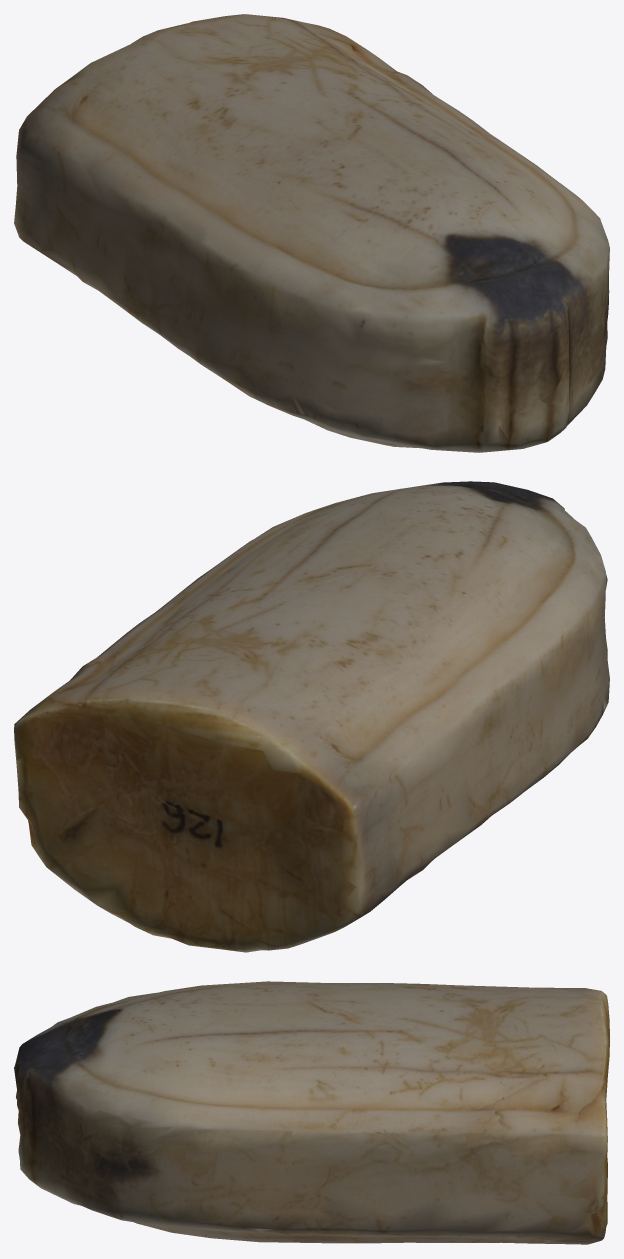
The model's file is marker3.glb.
3 renders of one model, top to bottom at view 1: azimuth 30°, elevation 25°; view 2: azimuth 150°, elevation 25°; view 3: azimuth 270°, elevation 25°, orthographic. The views are drawn at different scales.
Parts seen in each view (by area): view 1: pawn_lewisPawn126; view 2: pawn_lewisPawn126; view 3: pawn_lewisPawn126.
Boxes of the visible parts, <box> form: pawn_lewisPawn126: <box>14,14,609,452</box>; pawn_lewisPawn126: <box>14,481,609,952</box>; pawn_lewisPawn126: <box>14,981,609,1244</box>.
Size of the model in its own units: 0.8783 by 0.6131 by 1.54.
Materials: 1 (1 with a texture image).
